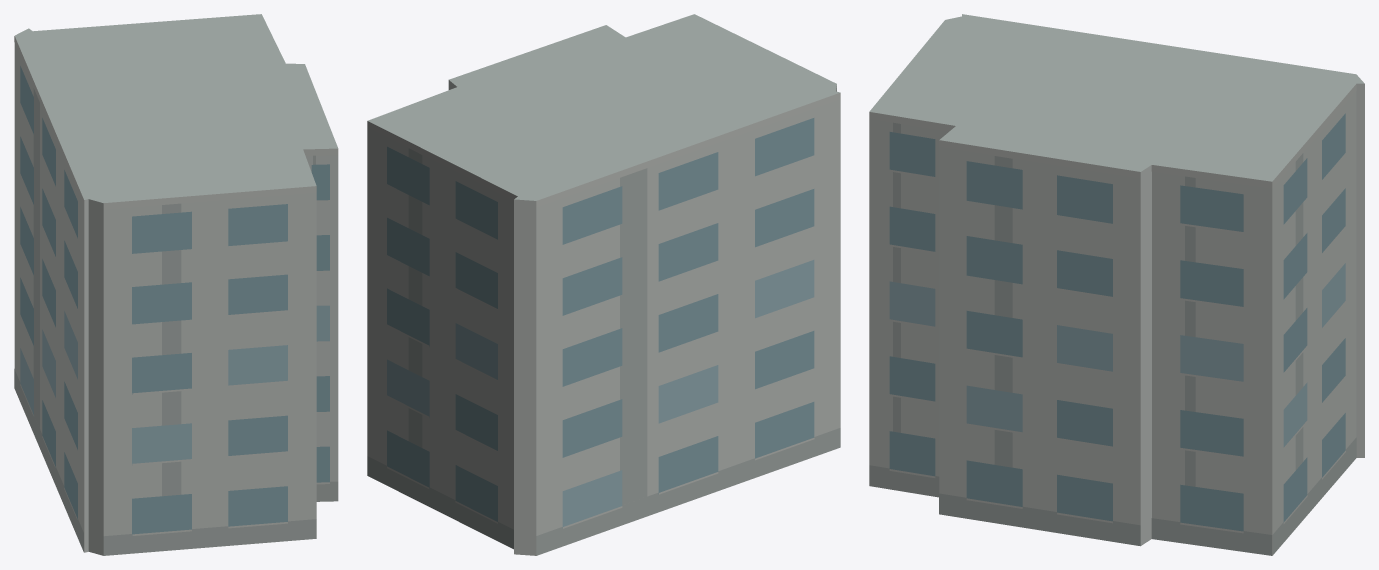
Rendered from survey-upis-32887501.glb.
3 views of the same model, side by side, from view 1: azimuth 30°, elevation 25°; view 2: azimuth 150°, elevation 25°; view 3: azimuth 270°, elevation 25° (orthographic). The views are drawn at different scales.
Visible parts, largest first — view 1: survey-upis-32887501.tmp; view 2: survey-upis-32887501.tmp; view 3: survey-upis-32887501.tmp.
Boxes of the visible parts, bbox=[...] form: survey-upis-32887501.tmp: bbox=[14, 14, 338, 555]; survey-upis-32887501.tmp: bbox=[367, 14, 840, 555]; survey-upis-32887501.tmp: bbox=[869, 14, 1364, 555].
Bounding box in the file's own units: 12.5 × 13 × 15.61.
